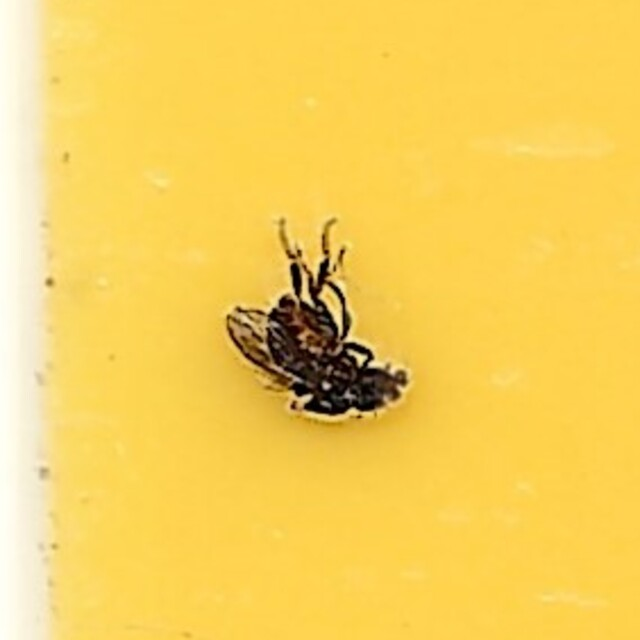Brachycera: (227, 215, 413, 425)
